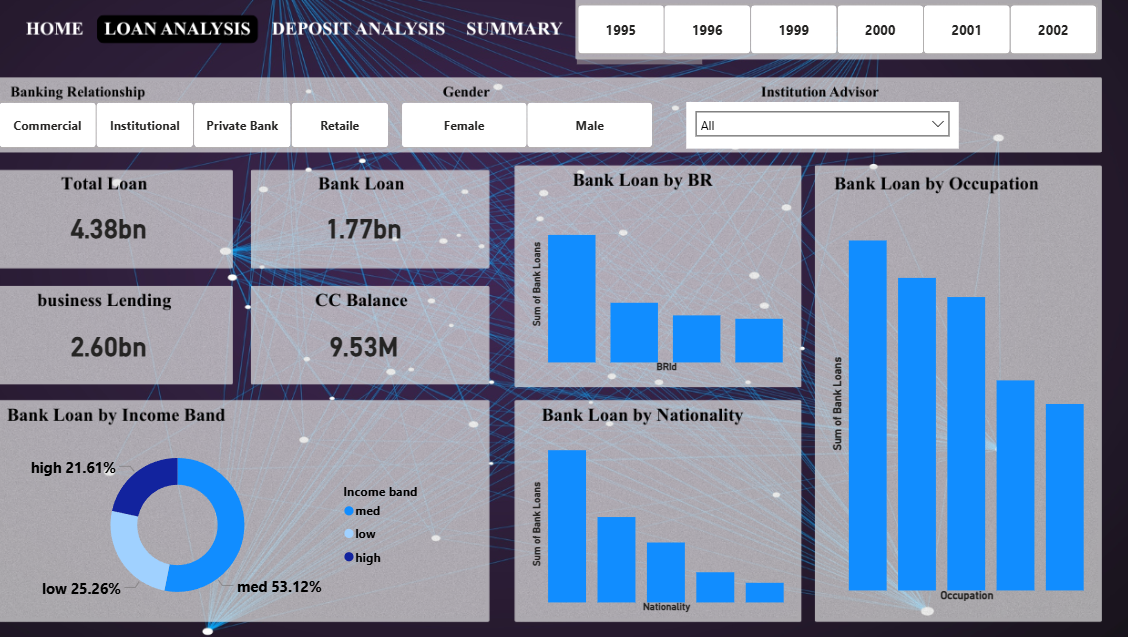

This screenshot's page, from the dashboard's own definition file:
{"tool":"powerbi","page":{"name":"Loan Analysis","canvas":[1280,720],"ordinal":1},"visuals":[{"type":"actionButton","box":[58.1,24.4,79.1,40.7],"z":0},{"type":"actionButton","box":[326.7,25.6,204.7,39.5],"z":1000},{"type":"actionButton","box":[541.9,24.4,124.4,39.5],"z":2000},{"type":"card","fields":{"Values":["banking_case banking.Total Loan"]},"box":[46.7,229.2,222.3,68.6],"z":3000},{"type":"card","fields":{"Values":["Sum(banking_case banking.Bank Loans)"]},"box":[326.6,229.2,222.3,68.6],"z":4000},{"type":"card","fields":{"Values":["Sum(banking_case banking.Business Lending)"]},"box":[46.7,359.5,222.3,68.6],"z":5000},{"type":"card","fields":{"Values":["Sum(banking_case banking.Credit Card Balance)"]},"box":[326.6,359.5,222.3,68.6],"z":6000},{"type":"advancedSlicerVisual","fields":{"Values":["banking_case banking.Year of joining"]},"box":[667,14,585.9,78.2],"z":7000},{"type":"donutChart","fields":{"Category":["banking_case banking.Income band"],"Y":["Sum(banking_case banking.Bank Loans)"]},"box":[46.7,489.9,477.5,201.7],"z":8000},{"type":"clusteredColumnChart","fields":{"Category":["banking_case banking.BRId"],"Y":["Sum(banking_case banking.Bank Loans)"]},"box":[617.5,226.4,288.2,201.7],"z":9000},{"type":"clusteredColumnChart","fields":{"Y":["Sum(banking_case banking.Bank Loans)"],"Category":["banking_case banking.Nationality"]},"box":[617.5,489.9,288.2,201.7],"z":10000},{"type":"clusteredColumnChart","fields":{"Y":["Sum(banking_case banking.Bank Loans)"],"Category":["banking_case banking.Occupation"]},"box":[946.8,238.8,288.2,440.5],"z":11000},{"type":"advancedSlicerVisual","fields":{"Values":["banking_case banking.BRId"]},"box":[31.6,120.8,441.9,61.7],"z":12000},{"type":"advancedSlicerVisual","fields":{"Values":["banking_case banking.GenderId"]},"box":[473.4,120.8,288.2,61.7],"z":13000},{"type":"slicer","fields":{"Values":["banking_case banking.IAId"]},"box":[791.8,126.2,299,51],"z":14000}]}

Visuals, with their boxes in screenshot pixels (x1, y1, x2, y2), scaled from the page's 1280x720 canvas onto the 1128x637 screenshot:
actionButton: (left=51, top=22, right=121, bottom=58)
actionButton: (left=288, top=23, right=468, bottom=58)
actionButton: (left=478, top=22, right=587, bottom=57)
card - banking_case banking.Total Loan: (left=41, top=203, right=237, bottom=263)
card - Sum(banking_case banking.Bank Loans): (left=288, top=203, right=484, bottom=263)
card - Sum(banking_case banking.Business Lending): (left=41, top=318, right=237, bottom=379)
card - Sum(banking_case banking.Credit Card Balance): (left=288, top=318, right=484, bottom=379)
advancedSlicerVisual - banking_case banking.Year of joining: (left=588, top=12, right=1104, bottom=82)
donutChart - banking_case banking.Income band x Sum(banking_case banking.Bank Loans): (left=41, top=433, right=462, bottom=612)
clusteredColumnChart - banking_case banking.BRId x Sum(banking_case banking.Bank Loans): (left=544, top=200, right=798, bottom=379)
clusteredColumnChart - Sum(banking_case banking.Bank Loans) x banking_case banking.Nationality: (left=544, top=433, right=798, bottom=612)
clusteredColumnChart - Sum(banking_case banking.Bank Loans) x banking_case banking.Occupation: (left=834, top=211, right=1088, bottom=601)
advancedSlicerVisual - banking_case banking.BRId: (left=28, top=107, right=417, bottom=161)
advancedSlicerVisual - banking_case banking.GenderId: (left=417, top=107, right=671, bottom=161)
slicer - banking_case banking.IAId: (left=698, top=112, right=961, bottom=157)
